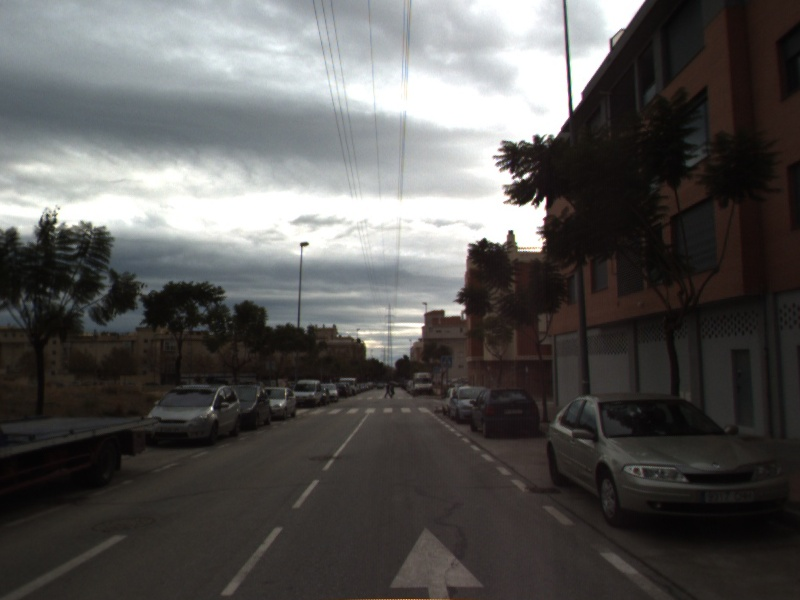STRAIGHT: (386, 520, 487, 600)
